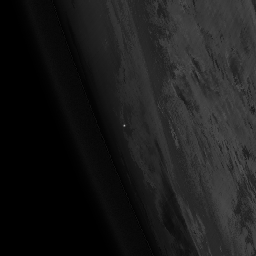Target: (122, 123, 127, 128)
